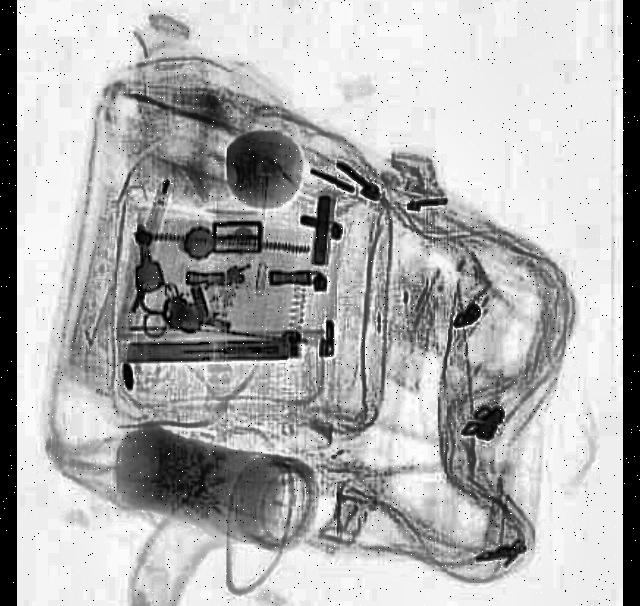Scissors: (136, 280, 237, 352)
